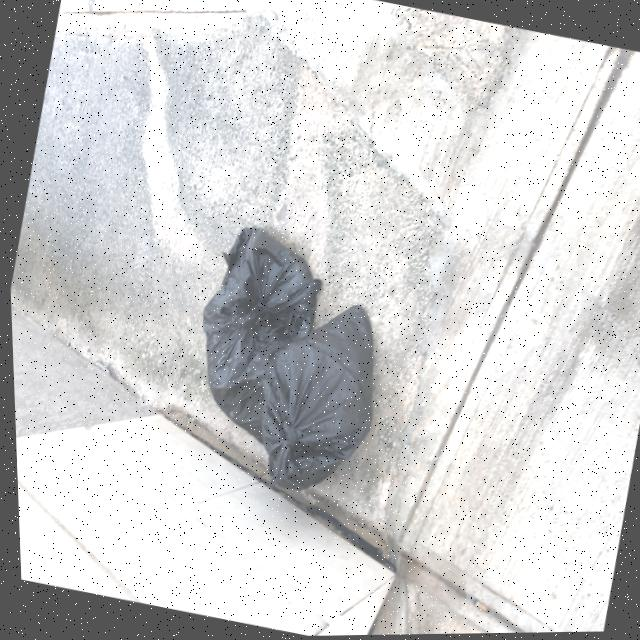Mixed Waste -Black Bag-: (176, 219, 335, 451), (238, 289, 390, 505)
